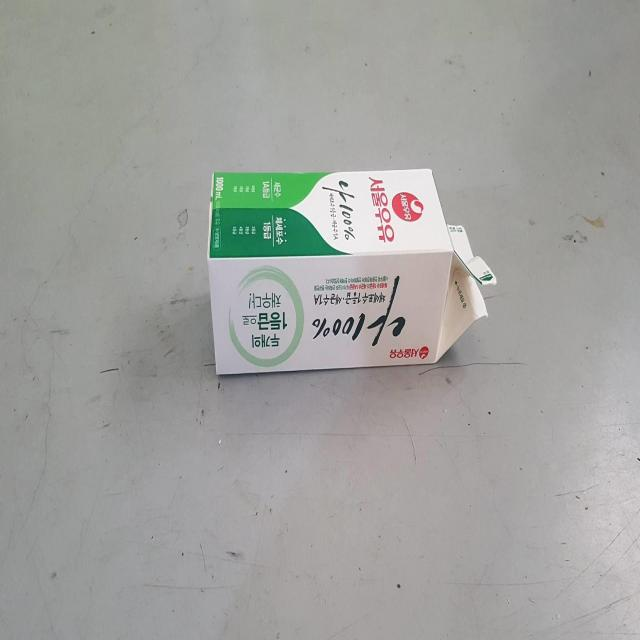paperpack: (207, 168, 497, 374)
